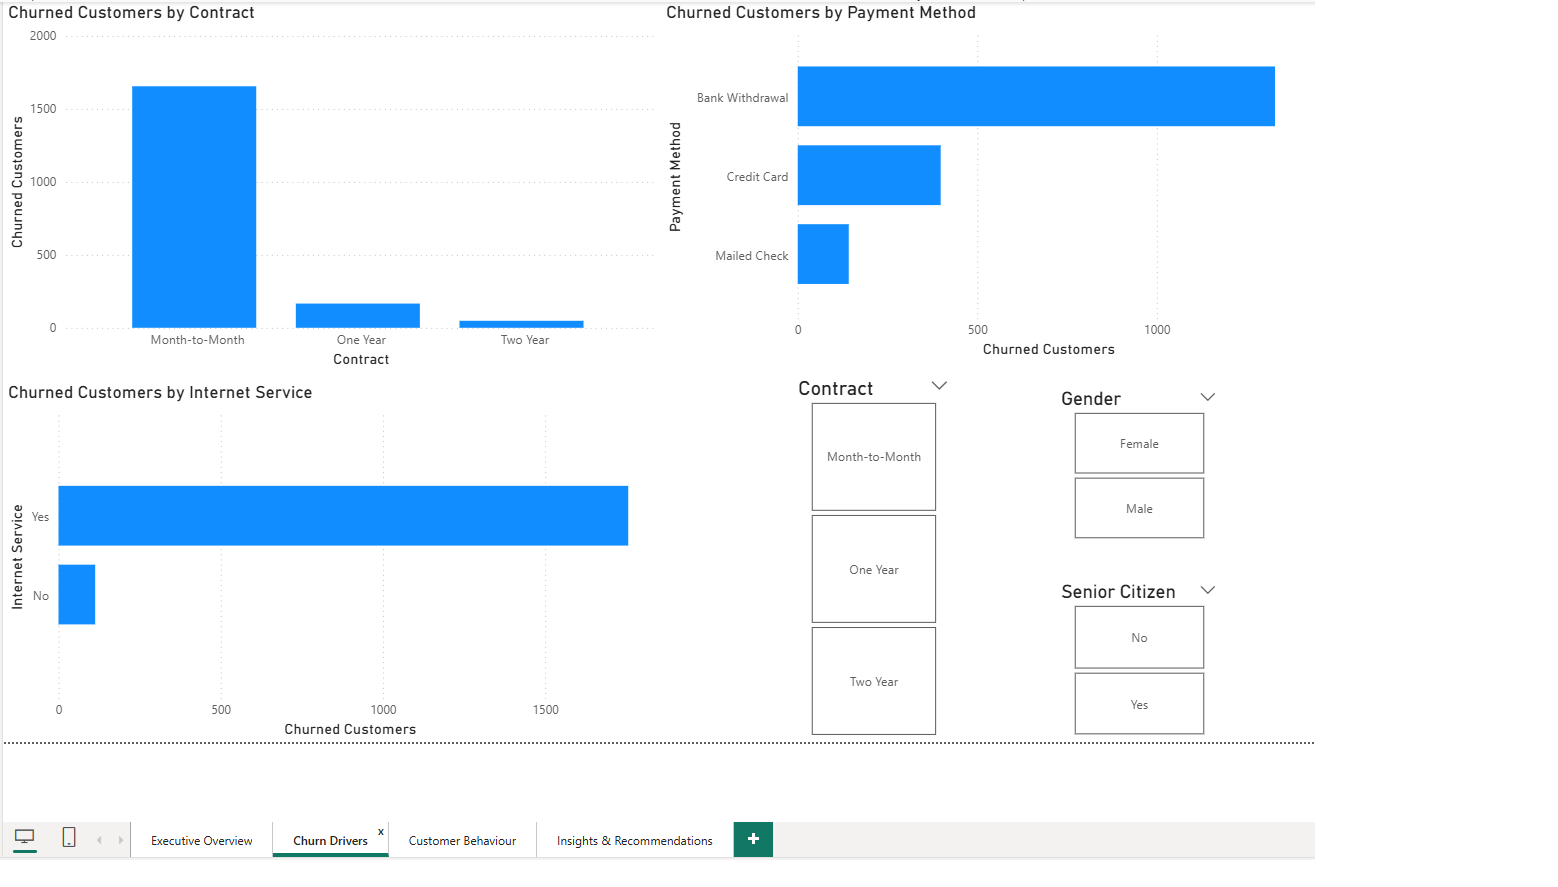

Layout of this report page (visuals, bound fields, positions):
{"tool":"powerbi","page":{"name":"Churn Drivers","canvas":[1280,720],"ordinal":1},"visuals":[{"type":"clusteredColumnChart","fields":{"Category":["telco.Contract"],"Y":["telco.Churned Customers"]},"box":[0,0,640,359.9],"z":0},{"type":"barChart","fields":{"Category":["telco.Payment Method"],"Y":["telco.Churned Customers"]},"box":[640,0,640,350.2],"z":1},{"type":"barChart","fields":{"Category":["telco.Internet Service"],"Y":["telco.Churned Customers"]},"box":[0,370,640,350],"z":2},{"type":"slicer","fields":{"Values":["telco.Contract"]},"box":[760.6,358.9,171.2,360.9],"z":3},{"type":"slicer","fields":{"Values":["telco.Gender"]},"box":[1016.4,369.6,176,158.5],"z":4},{"type":"slicer","fields":{"Values":["telco.Senior Citizen"]},"box":[1016.4,557.3,176,162.4],"z":5}]}

Visuals, with their boxes on the page's 1280x720 design canvas (x1, y1, x2, y2). These are canvas units, not pixel positions in the 1558x887 screenshot, which may show the page scaled, cropped or inside an application window:
clusteredColumnChart - telco.Contract x telco.Churned Customers: rect(0, 0, 640, 360)
barChart - telco.Payment Method x telco.Churned Customers: rect(640, 0, 1280, 350)
barChart - telco.Internet Service x telco.Churned Customers: rect(0, 370, 640, 720)
slicer - telco.Contract: rect(761, 359, 932, 720)
slicer - telco.Gender: rect(1016, 370, 1192, 528)
slicer - telco.Senior Citizen: rect(1016, 557, 1192, 720)
